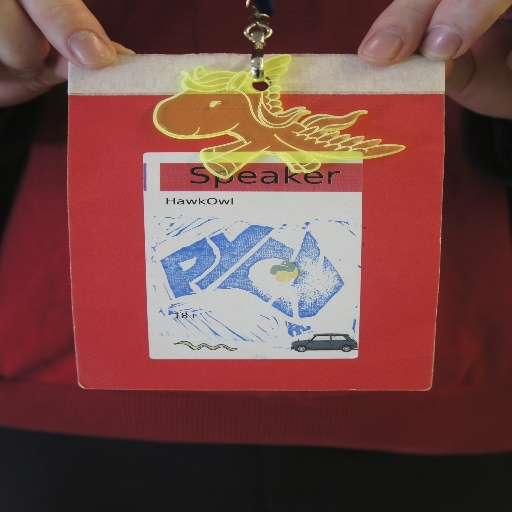hand: (0, 0, 138, 109), (359, 0, 502, 80)
